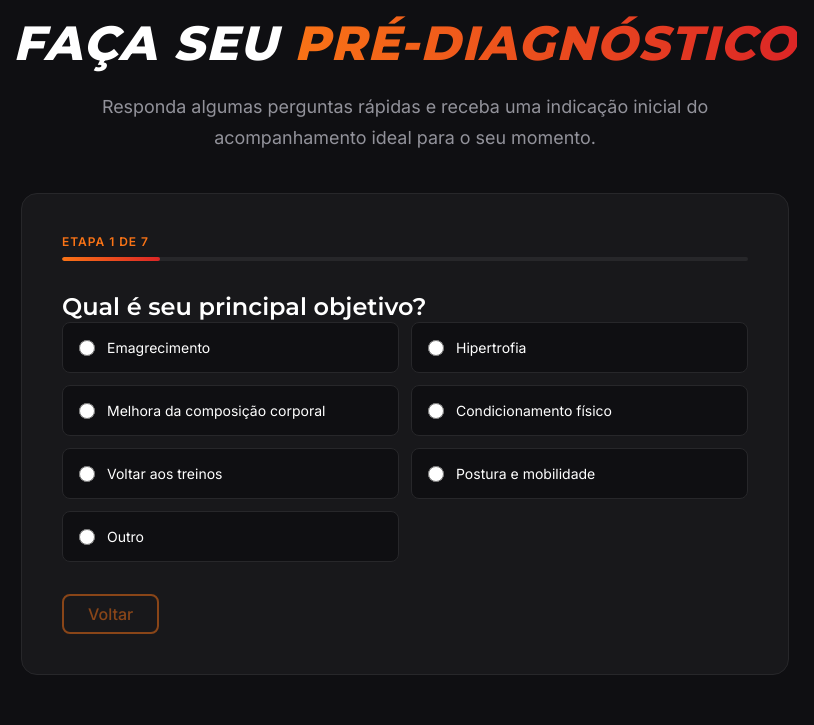
Test: PreDiagnosis › enables "Continuar" only after the required fields are filled
Click the radio button labelled "Hipertrofia": (436, 348) [428,340,444,356]
Wait 250 ms
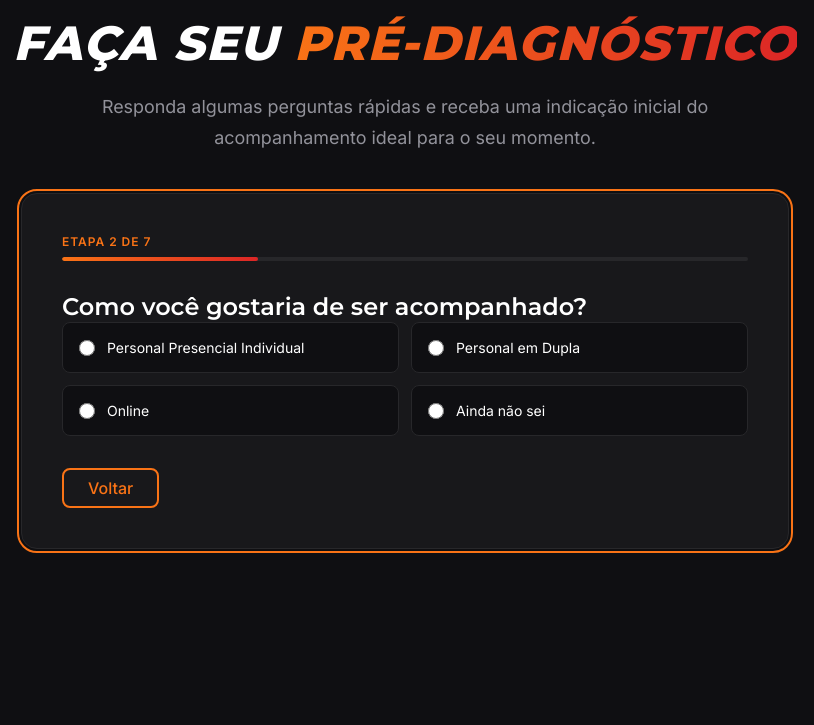
Click the radio button labelled "Personal Presencial Individual": (87, 348) [79,340,95,356]
Wait 250 ms
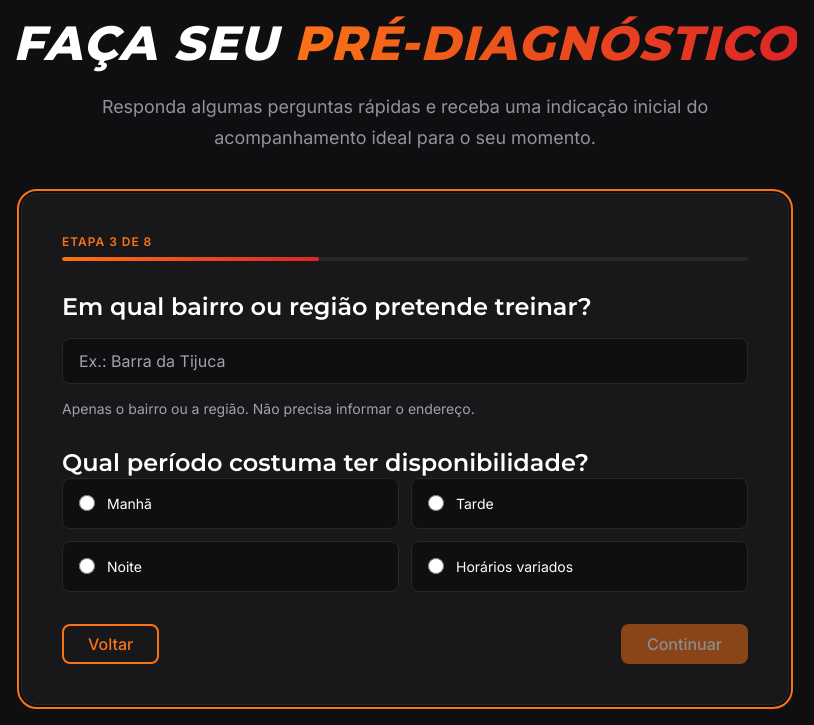
Expected: the button "Continuar" is disabled, [621,624,748,664]
In the field labelled "Em qual bairro ou região pretende treinar?": (405, 361) [62,338,748,384], type "Recreio"
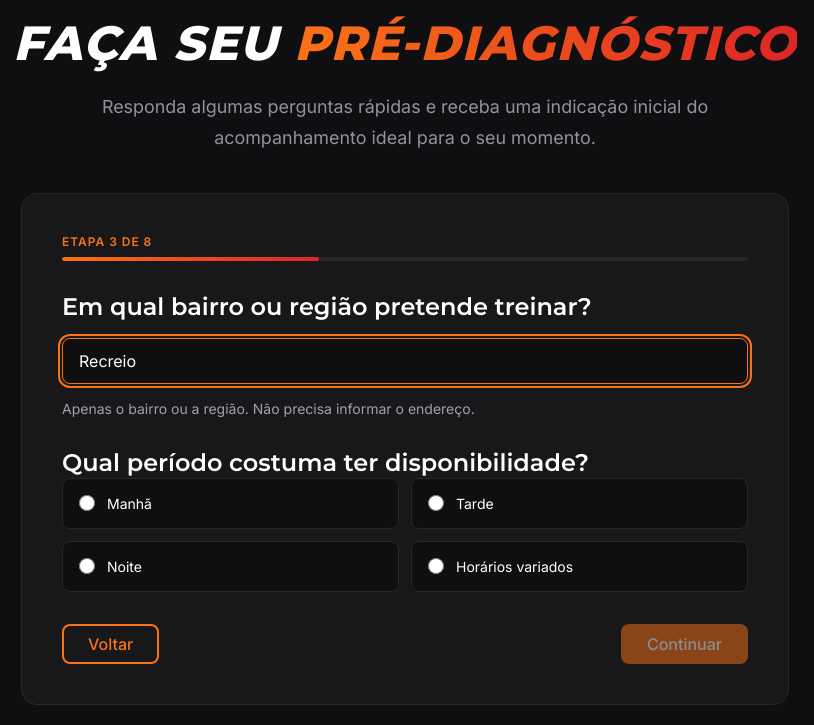
Expected: the button "Continuar" is disabled, [621,624,748,664]
Click the radio button labelled "Noite": (87, 566) [79,558,95,574]
Wait 250 ms
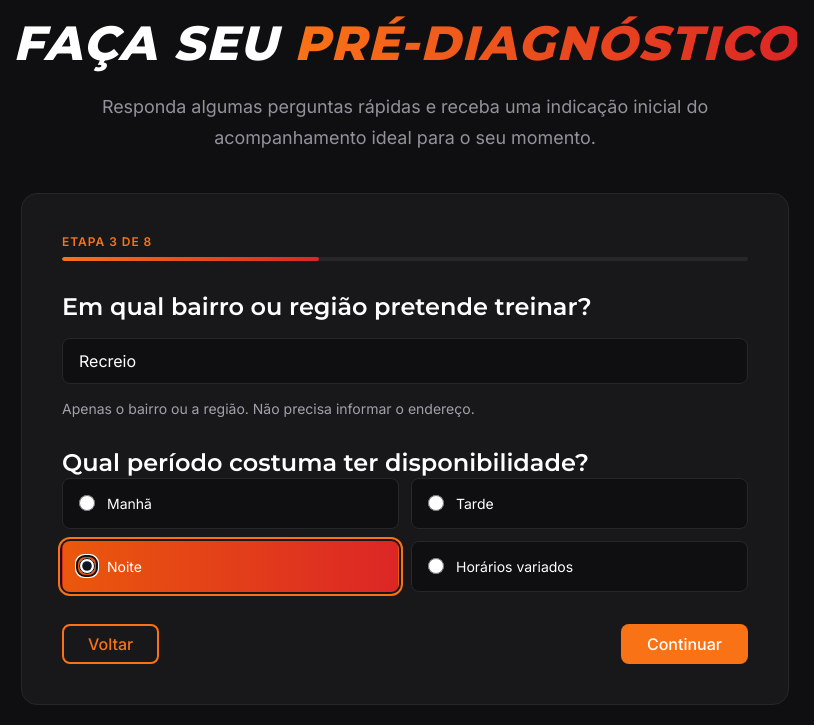
Expected: the button "Continuar" is enabled, [621,624,748,664]
